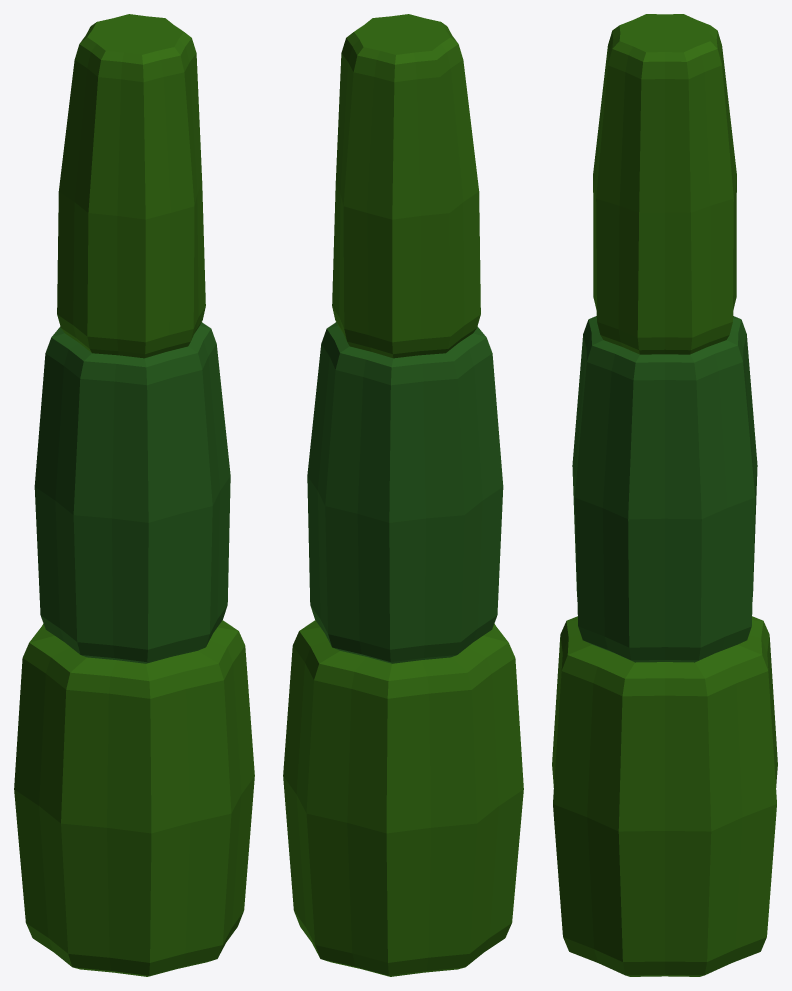
The model's file is Cactus_09_A.fbx.
The picture shows the model from 3 angles, left to right: view 1: azimuth 30°, elevation 25°; view 2: azimuth 150°, elevation 25°; view 3: azimuth 270°, elevation 25°; orthographic projection.
Visible parts, largest first — view 1: Cactus_09_A; view 2: Cactus_09_A; view 3: Cactus_09_A.
Boxes of the visible parts, x1,y1,x2,y2 form: Cactus_09_A: [14, 14, 254, 976]; Cactus_09_A: [283, 14, 523, 976]; Cactus_09_A: [552, 14, 777, 976].
Size of the model in its own units: 40.1 by 178 by 40.2.
